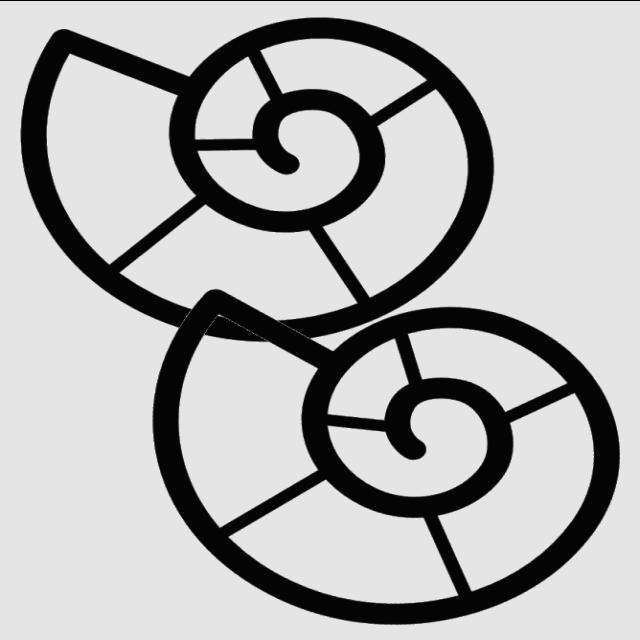fossil: (11, 10, 505, 354), (147, 278, 625, 630)
